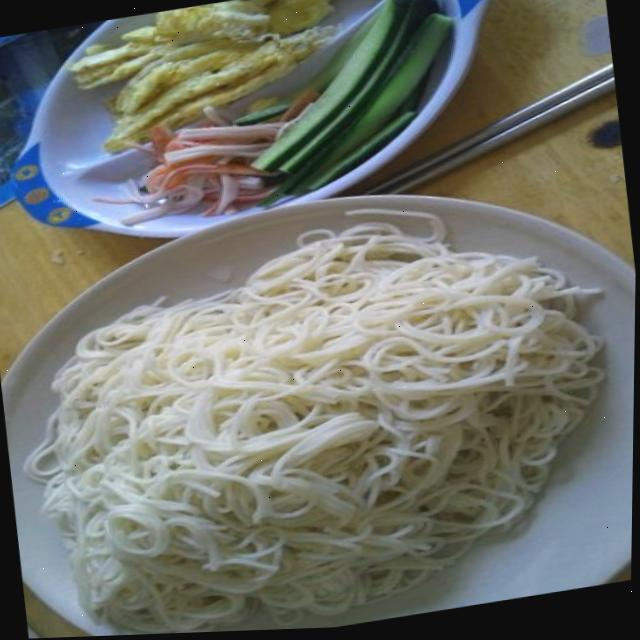面条主食: (0, 174, 638, 640)
